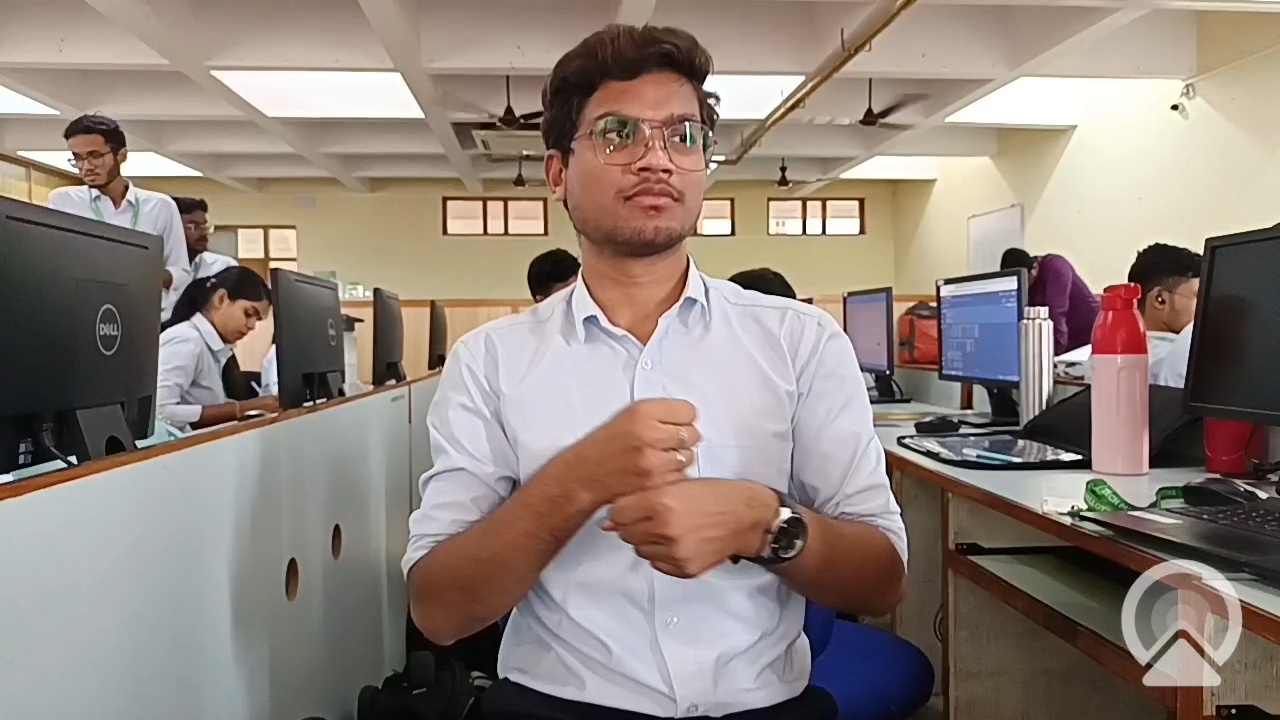G: (516, 349, 796, 582)
